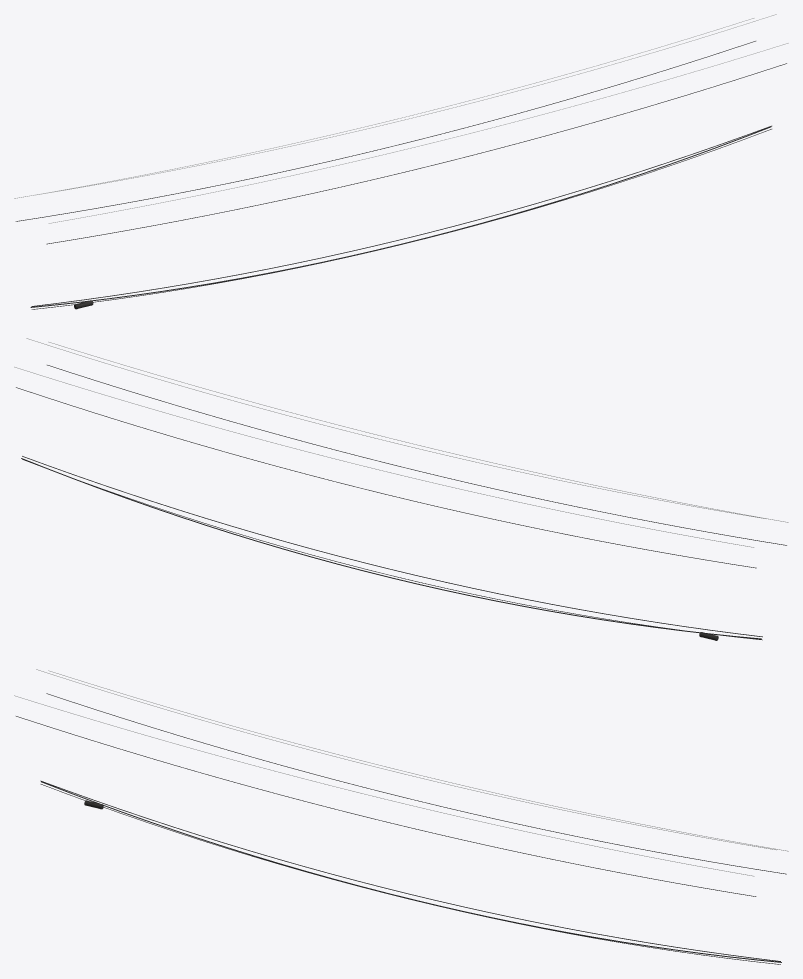
File: StreetWires.fbx
The picture shows the model from 3 angles, top to bottom: view 1: azimuth 30°, elevation 25°; view 2: azimuth 150°, elevation 25°; view 3: azimuth 330°, elevation 25°; orthographic projection.
Visible parts, largest first — view 1: StreetWires_Lines; view 2: StreetWires_Lines; view 3: StreetWires_Lines.
Boxes of the visible parts, left/top/right/bottom form: StreetWires_Lines: left=14, top=14, right=788, bottom=309; StreetWires_Lines: left=14, top=338, right=788, bottom=640; StreetWires_Lines: left=14, top=669, right=788, bottom=964.
Bounding box in the file's own units: 25.17 × 4.68 × 2.02.
